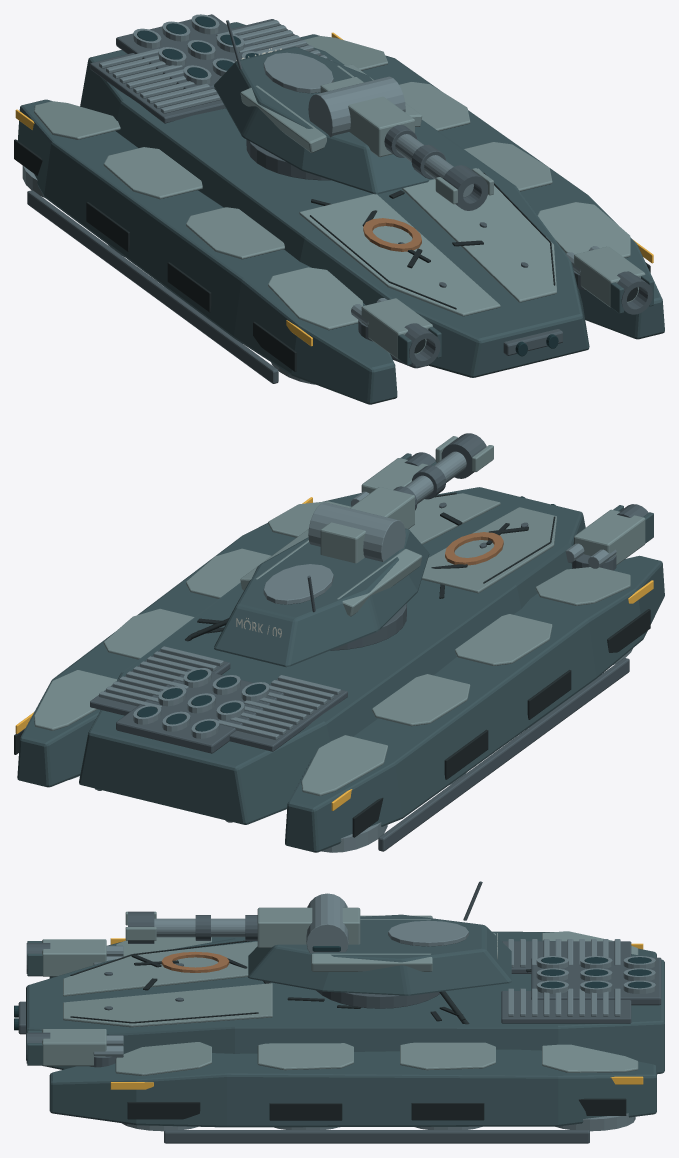
Rendered from mork_hover_tank_d2.glb.
The picture shows the model from 3 angles, top to bottom: view 1: azimuth 30°, elevation 25°; view 2: azimuth 150°, elevation 25°; view 3: azimuth 270°, elevation 25°; orthographic projection. The views are drawn at different scales.
Visible parts, largest first — view 1: Low armored main hull.002, Armored hover nacelle.004, Swept glacis armor.004, Tapered nacelle shield.016, Lean turret wedge.002, Tapered nacelle shield.020, Armored hover nacelle.005, Engine cooling louver.040, Engine heat exchanger.004, Ground contact skid.008, Lift vent recess.016, Armored cannon breech.002 (+13 smaller); view 2: Low armored main hull.002, Armored hover nacelle.004, Lean turret wedge.002, Tapered nacelle shield.016, Tapered nacelle shield.020, Armored hover nacelle.005, Swept glacis armor.004, Engine cooling louver.040, Engine heat exchanger.004, Ground contact skid.008, Armored cannon breech.002, Lift vent recess.016 (+12 smaller); view 3: Armored hover nacelle.005, Low armored main hull.002, Lean turret wedge.002, Swept glacis armor.004, Tapered nacelle shield.020, Engine heat exchanger.004, Ground contact skid.010, Lift vent recess.020, Armored cannon breech.002, Engine cooling louver.040, Low plasma projector.005, Gun trunnion.002 (+16 smaller).
Part boxes in pixels (box(x1,y1,x2,y2)): Low armored main hull.002: box(80, 22, 589, 377); Armored hover nacelle.004: box(17, 99, 397, 404); Swept glacis armor.004: box(299, 168, 556, 316); Tapered nacelle shield.016: box(34, 101, 362, 330); Lean turret wedge.002: box(214, 46, 428, 194); Tapered nacelle shield.020: box(304, 36, 630, 257); Armored hover nacelle.005: box(300, 34, 664, 339); Engine cooling louver.040: box(99, 20, 331, 113); Engine heat exchanger.004: box(90, 14, 562, 355); Ground contact skid.008: box(27, 190, 278, 383); Lift vent recess.016: box(14, 139, 296, 371); Armored cannon breech.002: box(320, 77, 493, 204); Low armored main hull.002: box(79, 487, 585, 824); Armored hover nacelle.004: box(285, 555, 664, 852); Lean turret wedge.002: box(214, 528, 429, 667); Tapered nacelle shield.016: box(301, 567, 630, 795); Tapered nacelle shield.020: box(34, 501, 351, 730); Armored hover nacelle.005: box(17, 493, 360, 787); Swept glacis armor.004: box(408, 493, 556, 593); Engine cooling louver.040: box(99, 646, 340, 739); Engine heat exchanger.004: box(90, 502, 528, 753); Ground contact skid.008: box(378, 658, 629, 851); Armored cannon breech.002: box(320, 436, 493, 563); Lift vent recess.016: box(352, 609, 650, 837); Armored hover nacelle.005: box(49, 1049, 656, 1127); Low armored main hull.002: box(26, 938, 664, 1074); Lean turret wedge.002: box(248, 914, 511, 995); Swept glacis armor.004: box(63, 941, 272, 1027); Tapered nacelle shield.020: box(115, 1042, 638, 1075); Engine heat exchanger.004: box(18, 941, 661, 1034); Ground contact skid.010: box(164, 1130, 589, 1143); Lift vent recess.020: box(127, 1098, 626, 1120); Armored cannon breech.002: box(125, 907, 360, 947); Engine cooling louver.040: box(508, 939, 620, 1016); Low plasma projector.005: box(42, 1029, 106, 1066); Gun trunnion.002: box(306, 893, 348, 953).
Bounding box in the file's own units: 5.83 × 3.02 × 10.48.
